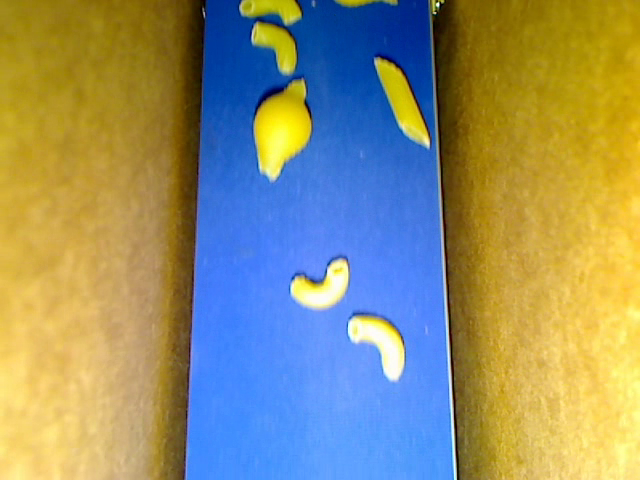elbow: (347, 312, 405, 383), (289, 255, 349, 311), (250, 22, 297, 76), (239, 1, 302, 26)
penne: (373, 57, 430, 148)
shell: (253, 76, 313, 183)
